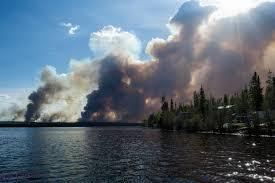yanwu: (1, 1, 274, 122)
